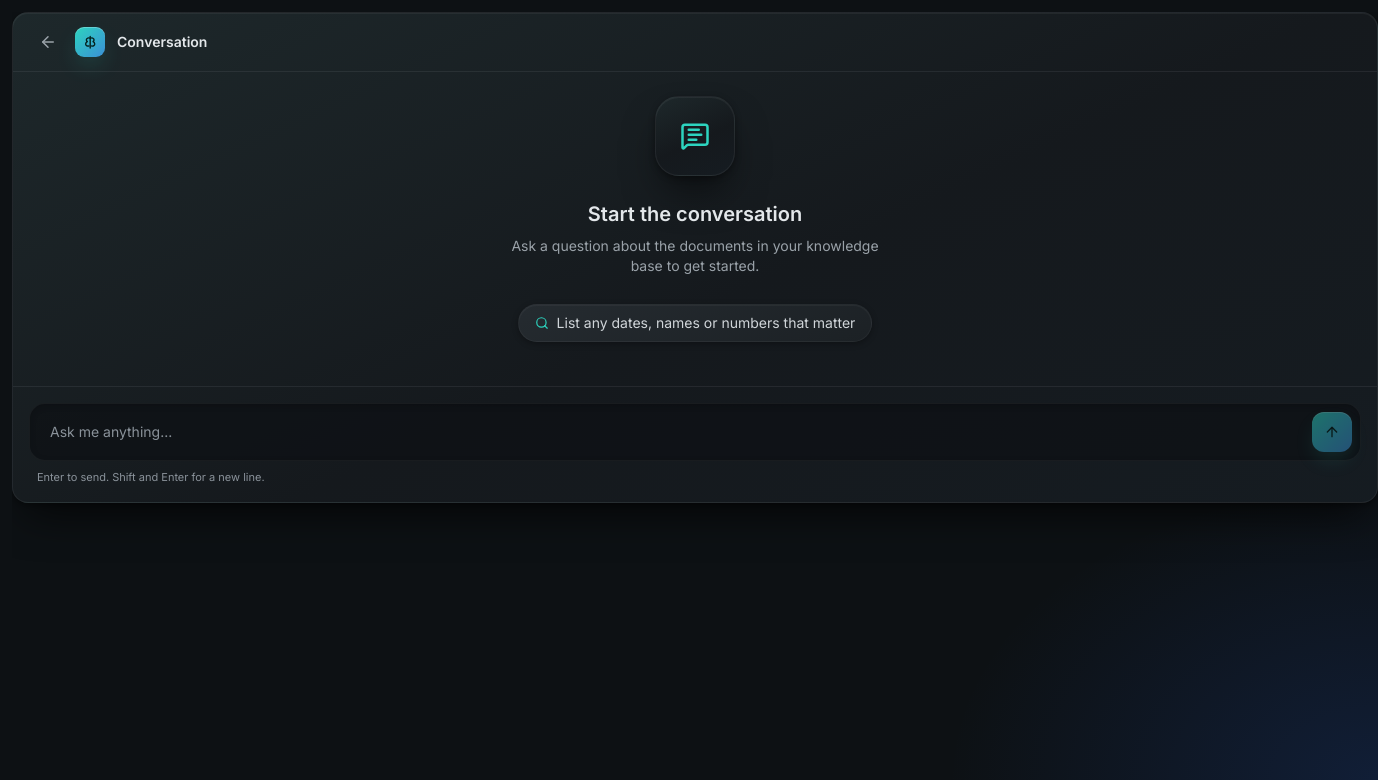
Test: chat history › H04 the back link returns to the conversation list
Click the link named "Back to conversations" at (48, 42), box x1=39 y1=33 x2=57 y2=51
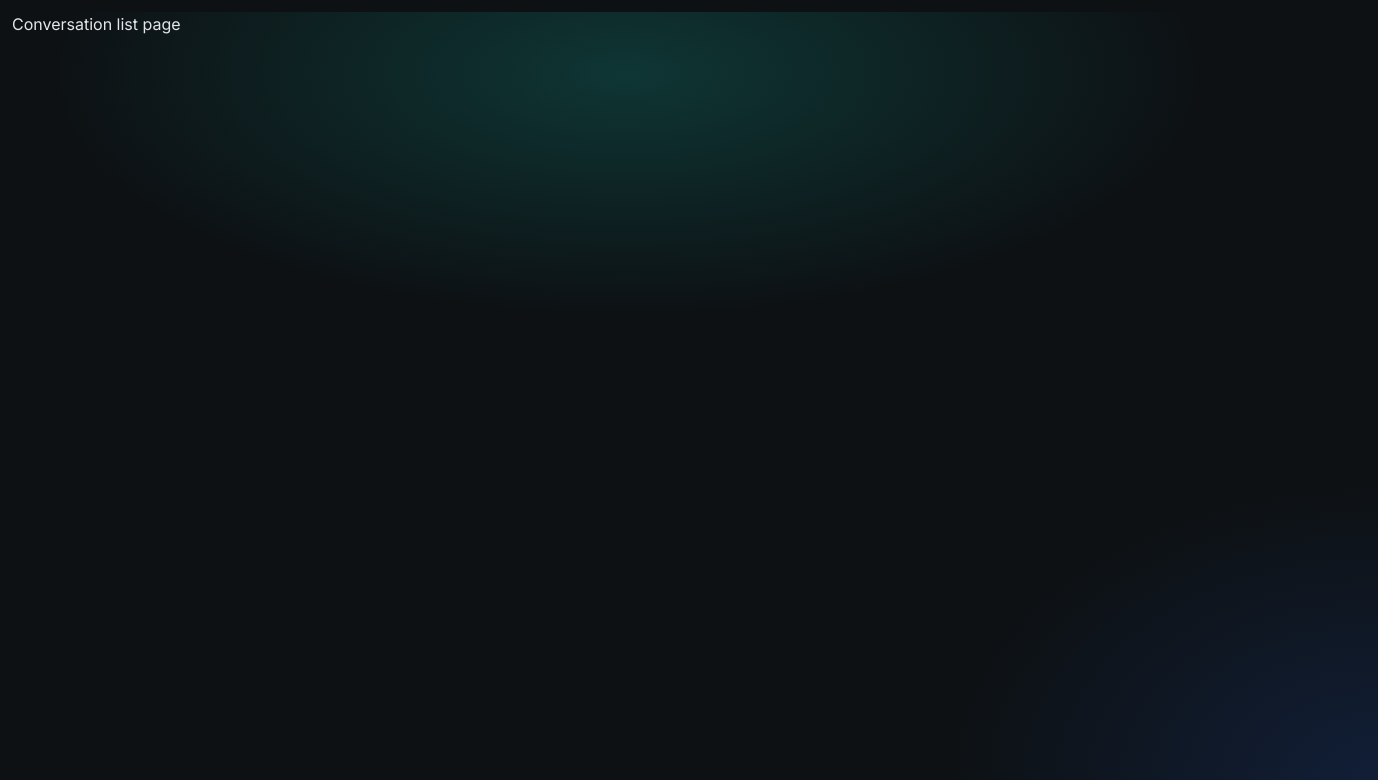
Now the text "Conversation list page" is shown, box x1=12 y1=14 x2=181 y2=34
